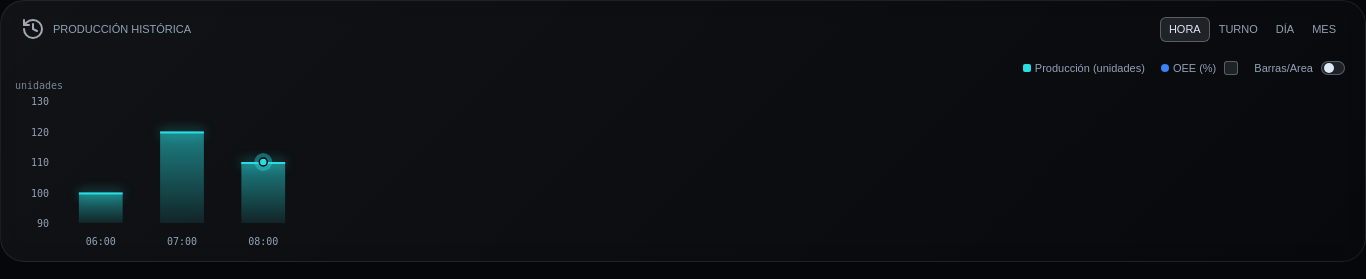
ProduccionHistoricaWidget › keeps the OEE legend checkbox visually stable between unchecked and checked states
What coordinates should you click on to do the following:
click the checkbox named "Mostrar OEE (%)"
I would click on:
 (1200, 68)
Its box is 1161,60 -> 1238,76.
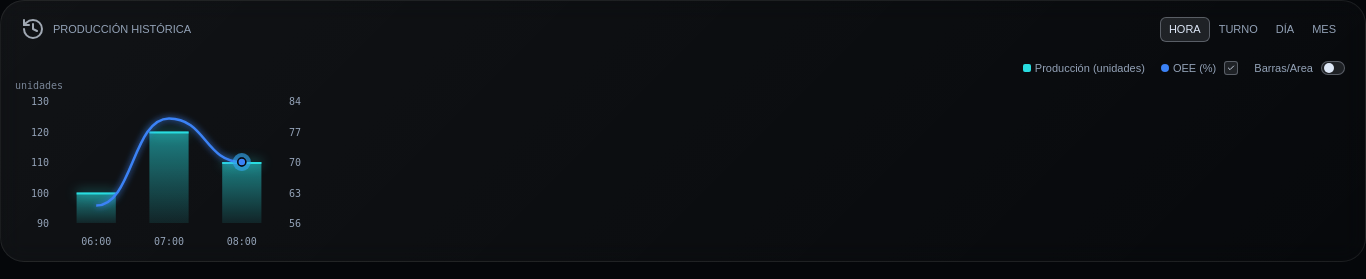
Now the checkbox named "Mostrar OEE (%)" is checked, box 1161,60 -> 1238,76
Now the icon with test id "prod-history-widget-oee-checkbox-check" is shown, box 1227,64 -> 1235,72
